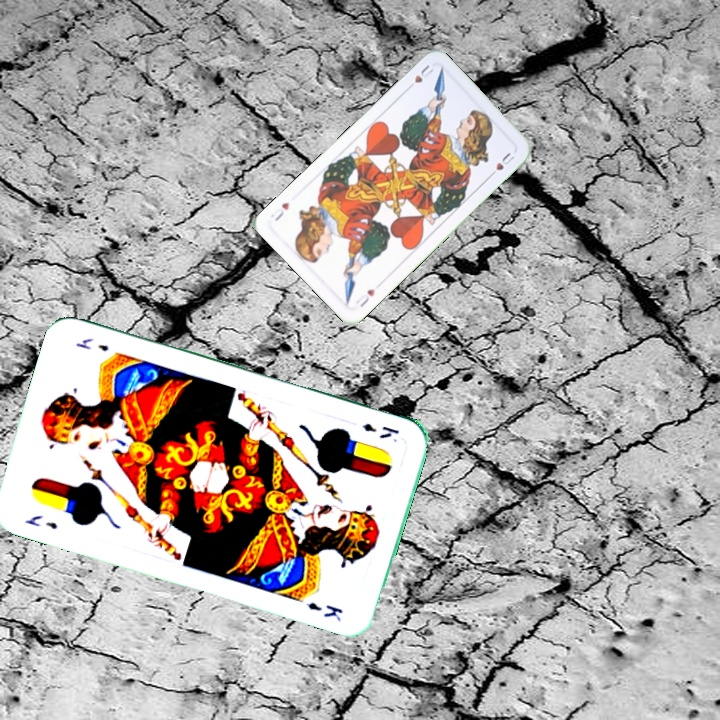EK: (357, 419, 401, 441), (21, 511, 60, 532)
HU: (403, 61, 438, 93), (352, 285, 378, 310)
